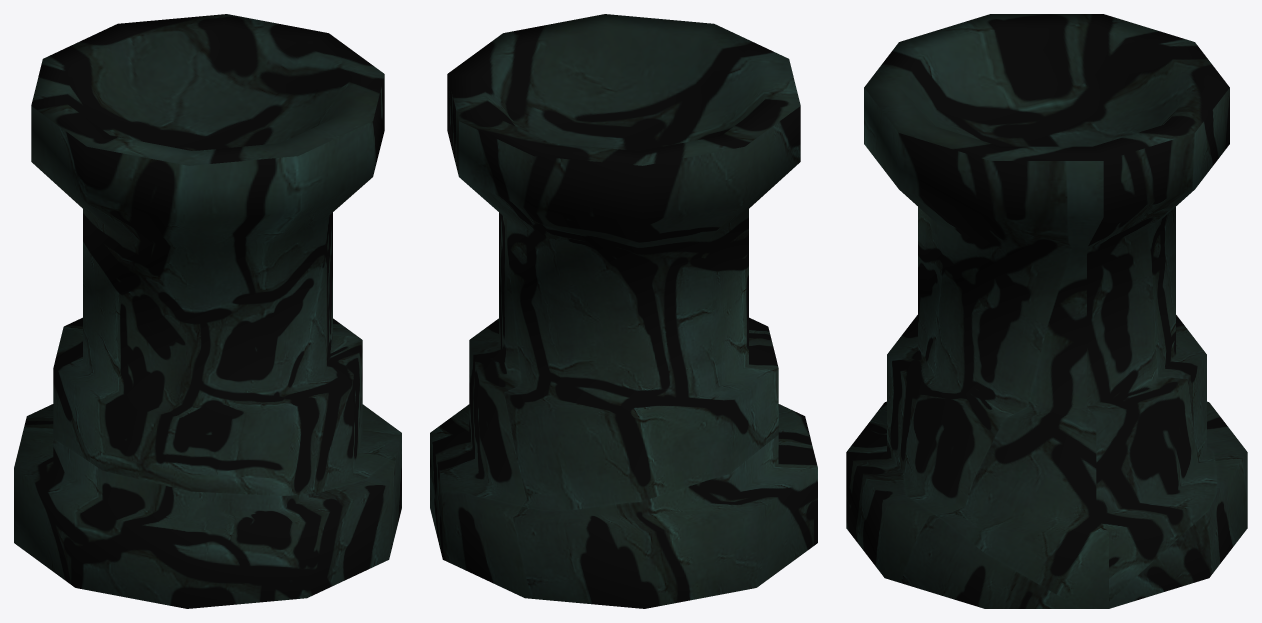
File: TorchR.fbx
3 views of the same model, side by side, from view 1: azimuth 30°, elevation 25°; view 2: azimuth 150°, elevation 25°; view 3: azimuth 270°, elevation 25° (orthographic).
Parts seen in each view (by area): view 1: f; view 2: f; view 3: f.
Part boxes in pixels (x1,y1,x2,y2): f: (14,14,401,608); f: (430,14,817,608); f: (846,14,1247,608).
Size of the model in its own units: 190 by 242 by 200.
1 material, 1 textured.
